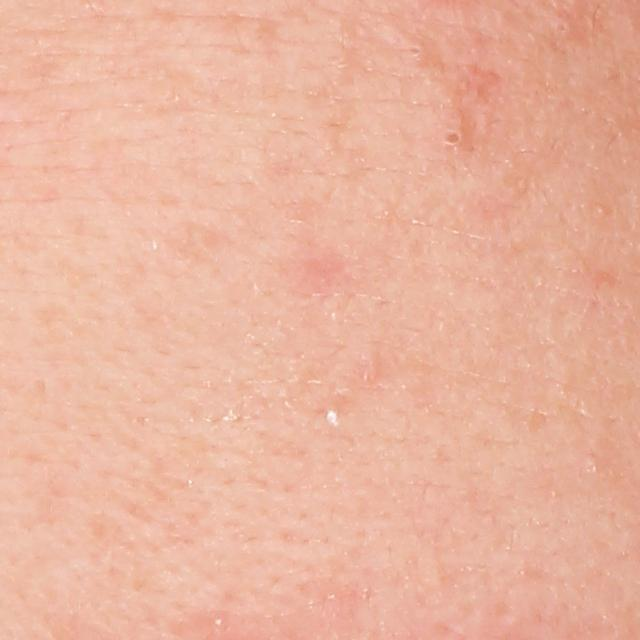comedo: (436, 123, 468, 153), (320, 403, 345, 428), (553, 14, 575, 38), (212, 614, 229, 630)
